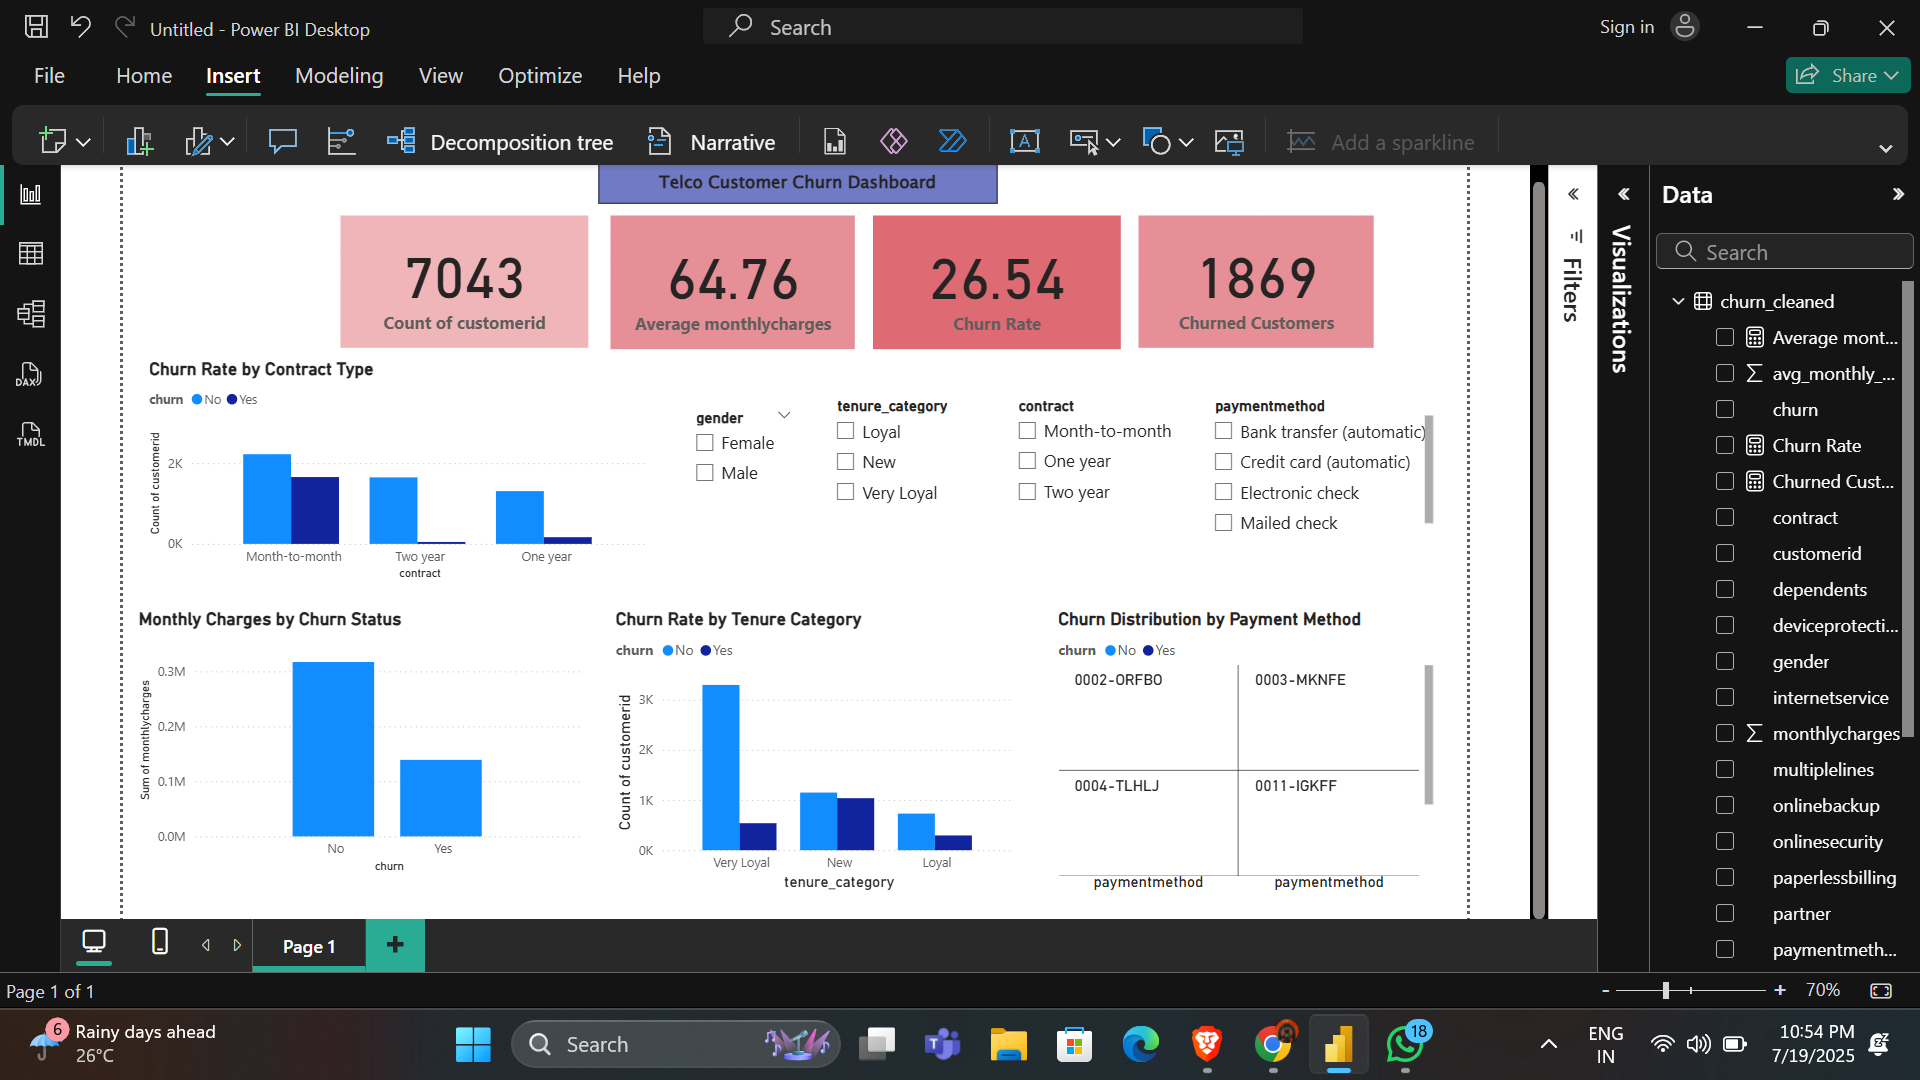

The page's visual inventory and layout, read from the dashboard file:
{"tool":"powerbi","page":{"name":"Page 1","canvas":[1280,720],"ordinal":0},"visuals":[{"type":"card","fields":{"Values":["CountNonNull(churn_cleaned.customerid)"]},"box":[207.1,50,235.7,125.7],"z":0},{"type":"card","fields":{"Values":["churn_cleaned.Churn Rate"]},"box":[714.3,50,235.7,127.1],"z":1000},{"type":"slicer","fields":{"Values":["churn_cleaned.gender"]},"box":[532.9,228.6,115.7,90],"z":2000},{"type":"slicer","fields":{"Values":["churn_cleaned.contract"]},"box":[840,217.1,187.1,118.6],"z":3000},{"type":"slicer","fields":{"Values":["churn_cleaned.paymentmethod"]},"box":[1027.1,217.1,225.7,142.9],"z":4000},{"type":"slicer","fields":{"Values":["churn_cleaned.tenure_category"]},"box":[667.1,217.1,152.9,114.3],"z":5000},{"type":"clusteredColumnChart","title":"Churn Rate by Contract Type","fields":{"Category":["churn_cleaned.contract"],"Series":["churn_cleaned.churn"],"Y":["CountNonNull(churn_cleaned.customerid)"]},"box":[20,185.7,484.3,215.7],"z":6000},{"type":"clusteredColumnChart","title":"Churn Rate by Tenure Category","fields":{"Category":["churn_cleaned.tenure_category"],"Series":["churn_cleaned.churn"],"Y":["CountNonNull(churn_cleaned.customerid)"]},"box":[464.3,424.3,390,272.9],"z":7000},{"type":"clusteredColumnChart","title":"Monthly Charges by Churn Status","fields":{"Category":["churn_cleaned.churn"],"Y":["Sum(churn_cleaned.monthlycharges)"]},"box":[10,424.3,432.9,255.7],"z":7001},{"type":"clusteredColumnChart","title":"Churn Distribution by Payment Method","fields":{"Category":["churn_cleaned.paymentmethod"],"Series":["churn_cleaned.churn"],"Rows":["churn_cleaned.customerid"]},"box":[885.7,424.3,367.1,272.9],"z":7002},{"type":"card","fields":{"Values":["churn_cleaned.Average monthlycharges"]},"box":[464.3,50,232.9,127.1],"z":7003},{"type":"card","fields":{"Values":["churn_cleaned.Churned Customers"]},"box":[967.1,50,224.3,125.7],"z":7004},{"type":"textbox","box":[452.9,0,380,38.6],"z":7005}]}

Visuals, with their boxes on the page's 1280x720 design canvas (x1, y1, x2, y2). These are canvas units, not pixel positions in the 1920x1080 screenshot, which may show the page scaled, cropped or inside an application window:
card - CountNonNull(churn_cleaned.customerid): l=207, t=50, r=443, b=176
card - churn_cleaned.Churn Rate: l=714, t=50, r=950, b=177
slicer - churn_cleaned.gender: l=533, t=229, r=649, b=319
slicer - churn_cleaned.contract: l=840, t=217, r=1027, b=336
slicer - churn_cleaned.paymentmethod: l=1027, t=217, r=1253, b=360
slicer - churn_cleaned.tenure_category: l=667, t=217, r=820, b=331
"Churn Rate by Contract Type" clusteredColumnChart: l=20, t=186, r=504, b=401
"Churn Rate by Tenure Category" clusteredColumnChart: l=464, t=424, r=854, b=697
"Monthly Charges by Churn Status" clusteredColumnChart: l=10, t=424, r=443, b=680
"Churn Distribution by Payment Method" clusteredColumnChart: l=886, t=424, r=1253, b=697
card - churn_cleaned.Average monthlycharges: l=464, t=50, r=697, b=177
card - churn_cleaned.Churned Customers: l=967, t=50, r=1191, b=176
textbox: l=453, t=0, r=833, b=39
